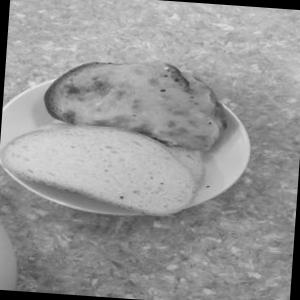bread: (3, 116, 209, 226)
cheese_sandwich: (36, 31, 235, 160)
